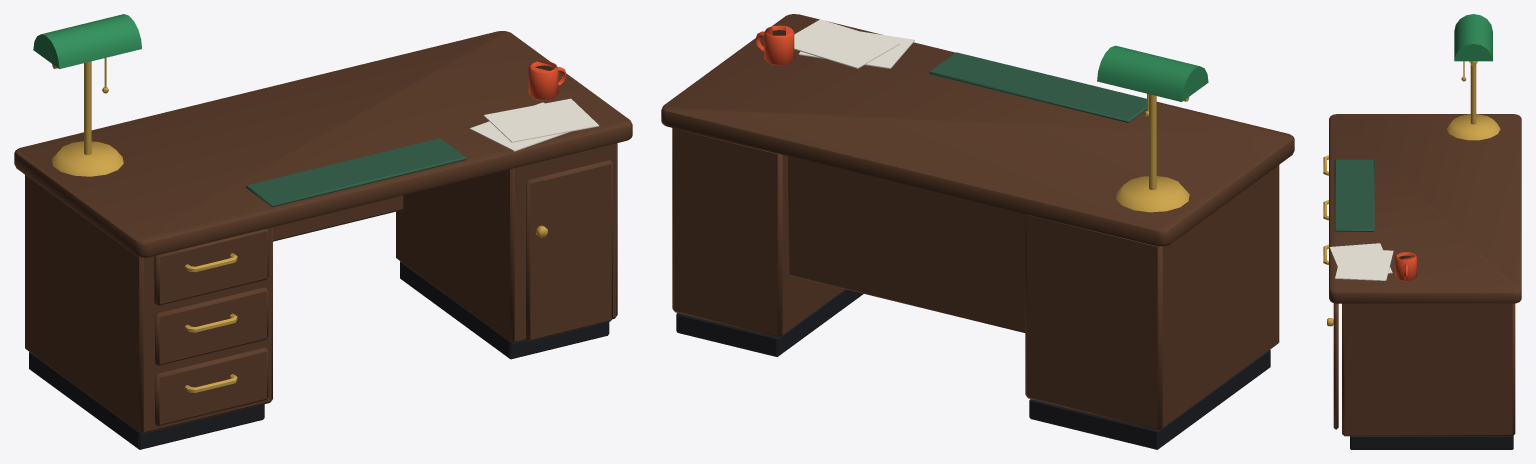
The model's file is Shop_OfficeDesk.fbx.
3 views of the same model, side by side, from view 1: azimuth 30°, elevation 25°; view 2: azimuth 150°, elevation 25°; view 3: azimuth 270°, elevation 25° (orthographic). The views are drawn at different scales.
Visible parts, largest first — view 1: Wood, Plinth, Blotter, Drawer, Brass, Shade, Papers, Mug; view 2: Wood, Plinth, Blotter, Shade, Papers, Brass, Mug; view 3: Wood, Blotter, Plinth, Papers, Brass, Shade, Mug.
Boxes of the visible parts, x1,y1,x2,y2 form: Wood: [14, 31, 632, 433]; Plinth: [29, 261, 609, 449]; Blotter: [245, 138, 466, 207]; Drawer: [154, 228, 268, 305]; Brass: [51, 57, 547, 392]; Shade: [33, 14, 141, 68]; Papers: [469, 98, 599, 151]; Mug: [528, 61, 566, 100]; Wood: [661, 14, 1294, 430]; Plinth: [676, 289, 1270, 449]; Blotter: [929, 52, 1146, 122]; Shade: [1097, 45, 1208, 101]; Papers: [794, 19, 914, 68]; Brass: [1116, 93, 1189, 212]; Mug: [755, 25, 794, 65]; Wood: [1329, 114, 1521, 436]; Blotter: [1334, 159, 1374, 231]; Plinth: [1350, 436, 1513, 449]; Papers: [1329, 243, 1393, 280]; Brass: [1323, 61, 1500, 326]; Shade: [1454, 14, 1492, 61]; Mug: [1395, 252, 1416, 281].
Size of the model in its own units: 660 by 452 by 309.
